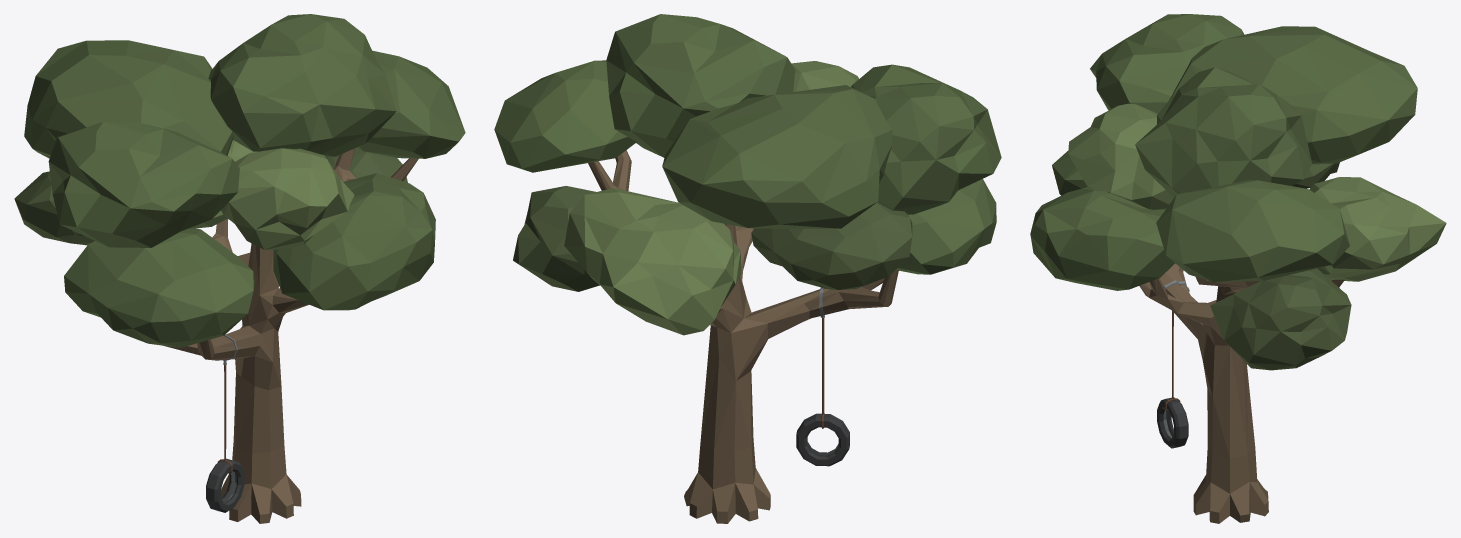
File: SM_Envr_Nature_Tree_Large_01.fbx
3 renders of one model, left to right at view 1: azimuth 30°, elevation 25°; view 2: azimuth 150°, elevation 25°; view 3: azimuth 270°, elevation 25°, orthographic. The views are drawn at different scales.
Visible parts, largest first — view 1: SM_Envr_Nature_Tree_Large_01, SM_Envr_Nature_Tree_Large_01_Swing; view 2: SM_Envr_Nature_Tree_Large_01, SM_Envr_Nature_Tree_Large_01_Swing; view 3: SM_Envr_Nature_Tree_Large_01, SM_Envr_Nature_Tree_Large_01_Swing.
Boxes of the visible parts, <box> form: SM_Envr_Nature_Tree_Large_01: <box>14,14,465,523</box>; SM_Envr_Nature_Tree_Large_01_Swing: <box>206,360,244,512</box>; SM_Envr_Nature_Tree_Large_01: <box>494,14,1001,523</box>; SM_Envr_Nature_Tree_Large_01_Swing: <box>796,315,849,466</box>; SM_Envr_Nature_Tree_Large_01: <box>1030,14,1446,523</box>; SM_Envr_Nature_Tree_Large_01_Swing: <box>1157,311,1188,448</box>.
Bounding box in the file's own units: 806 × 839 × 716.
